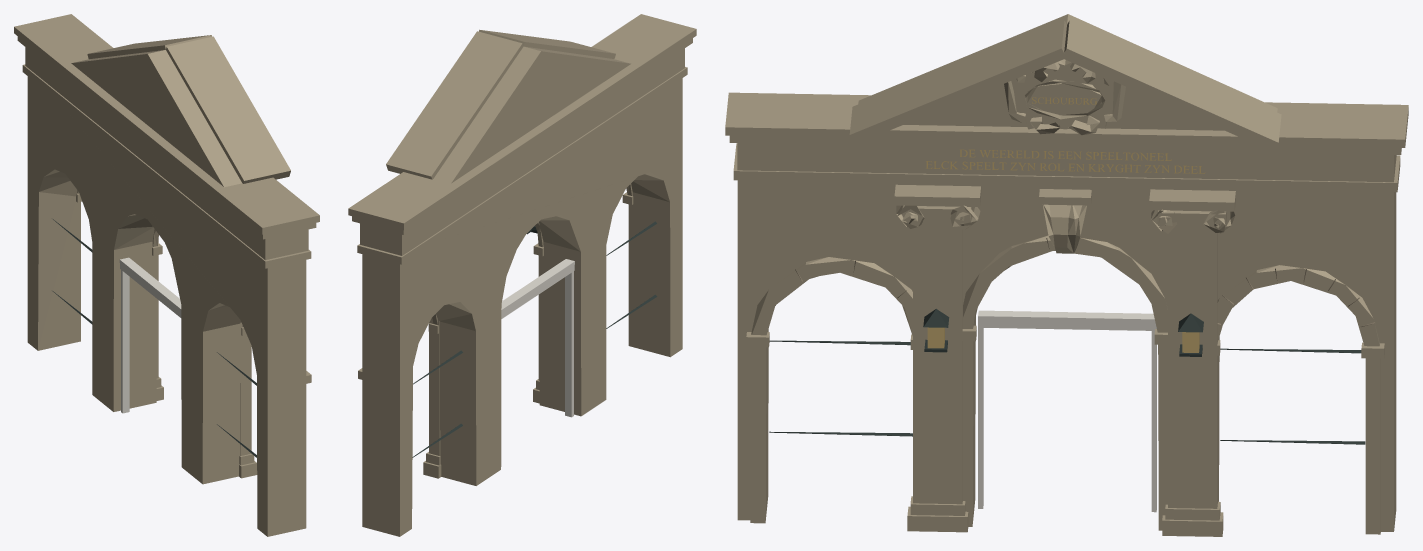
The model's file is voormalige-schouwburgpoort.lod1.glb.
3 renders of one model, left to right at view 1: azimuth 30°, elevation 25°; view 2: azimuth 150°, elevation 25°; view 3: azimuth 270°, elevation 25°, orthographic. The views are drawn at different scales.
Visible parts, largest first — view 1: voormalige-schouwburgpoort; view 2: voormalige-schouwburgpoort; view 3: voormalige-schouwburgpoort.
Boxes of the visible parts, bbox=[...] form: voormalige-schouwburgpoort: bbox=[14, 14, 319, 536]; voormalige-schouwburgpoort: bbox=[348, 14, 696, 536]; voormalige-schouwburgpoort: bbox=[725, 14, 1408, 536].
Size of the model in its own units: 1.81 by 6.49 by 8.15.
